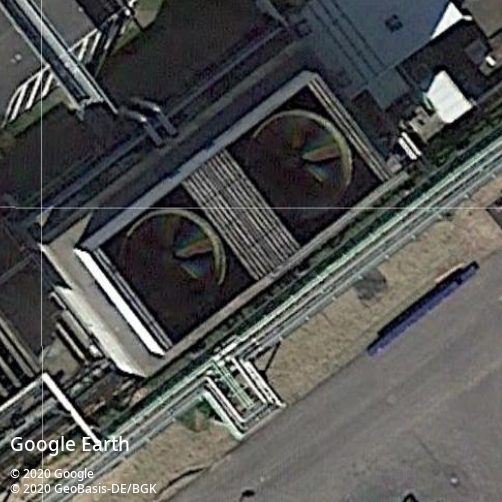Vent: (245, 110, 352, 220), (120, 208, 226, 316)
